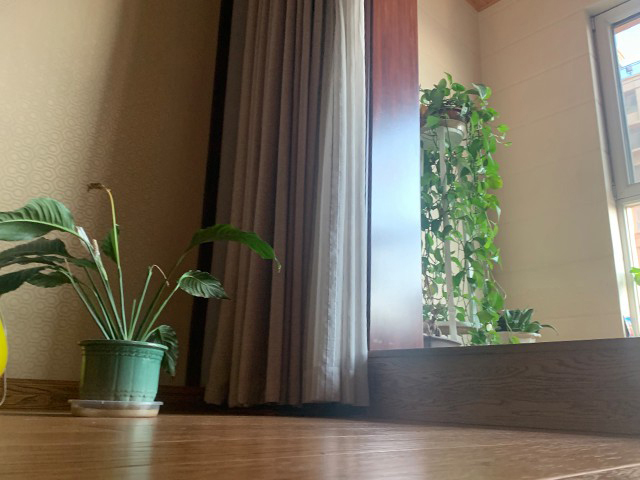curtain: (204, 1, 367, 408)
